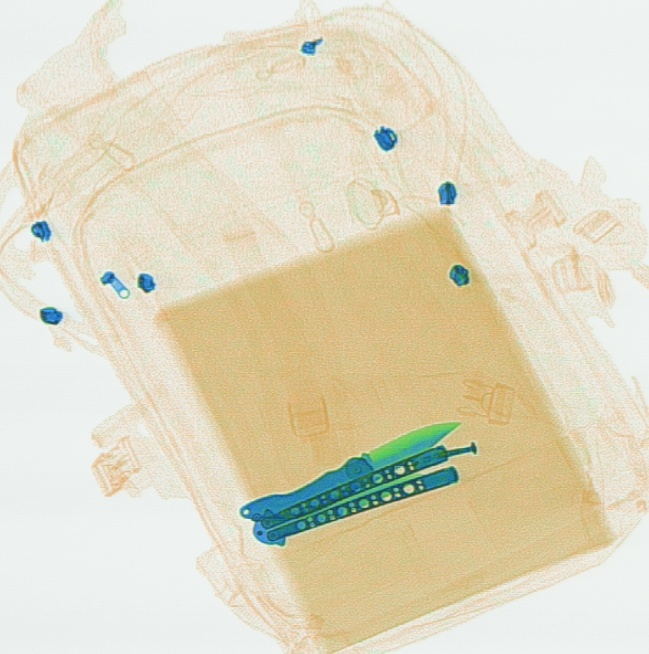knife: (252, 441, 477, 546), (237, 420, 458, 525)
